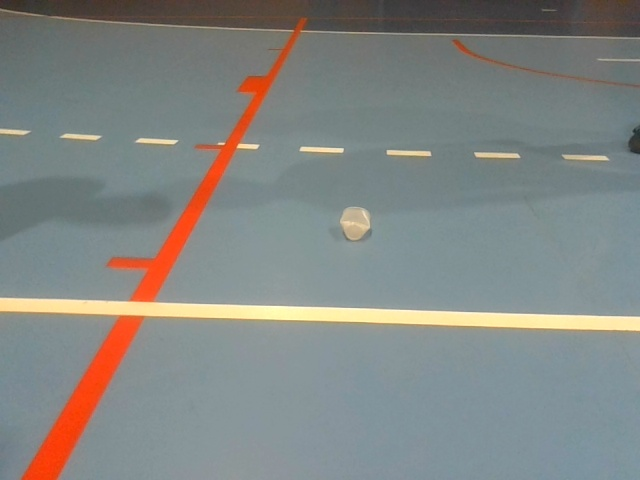plasticcup: (339, 206, 371, 241)
